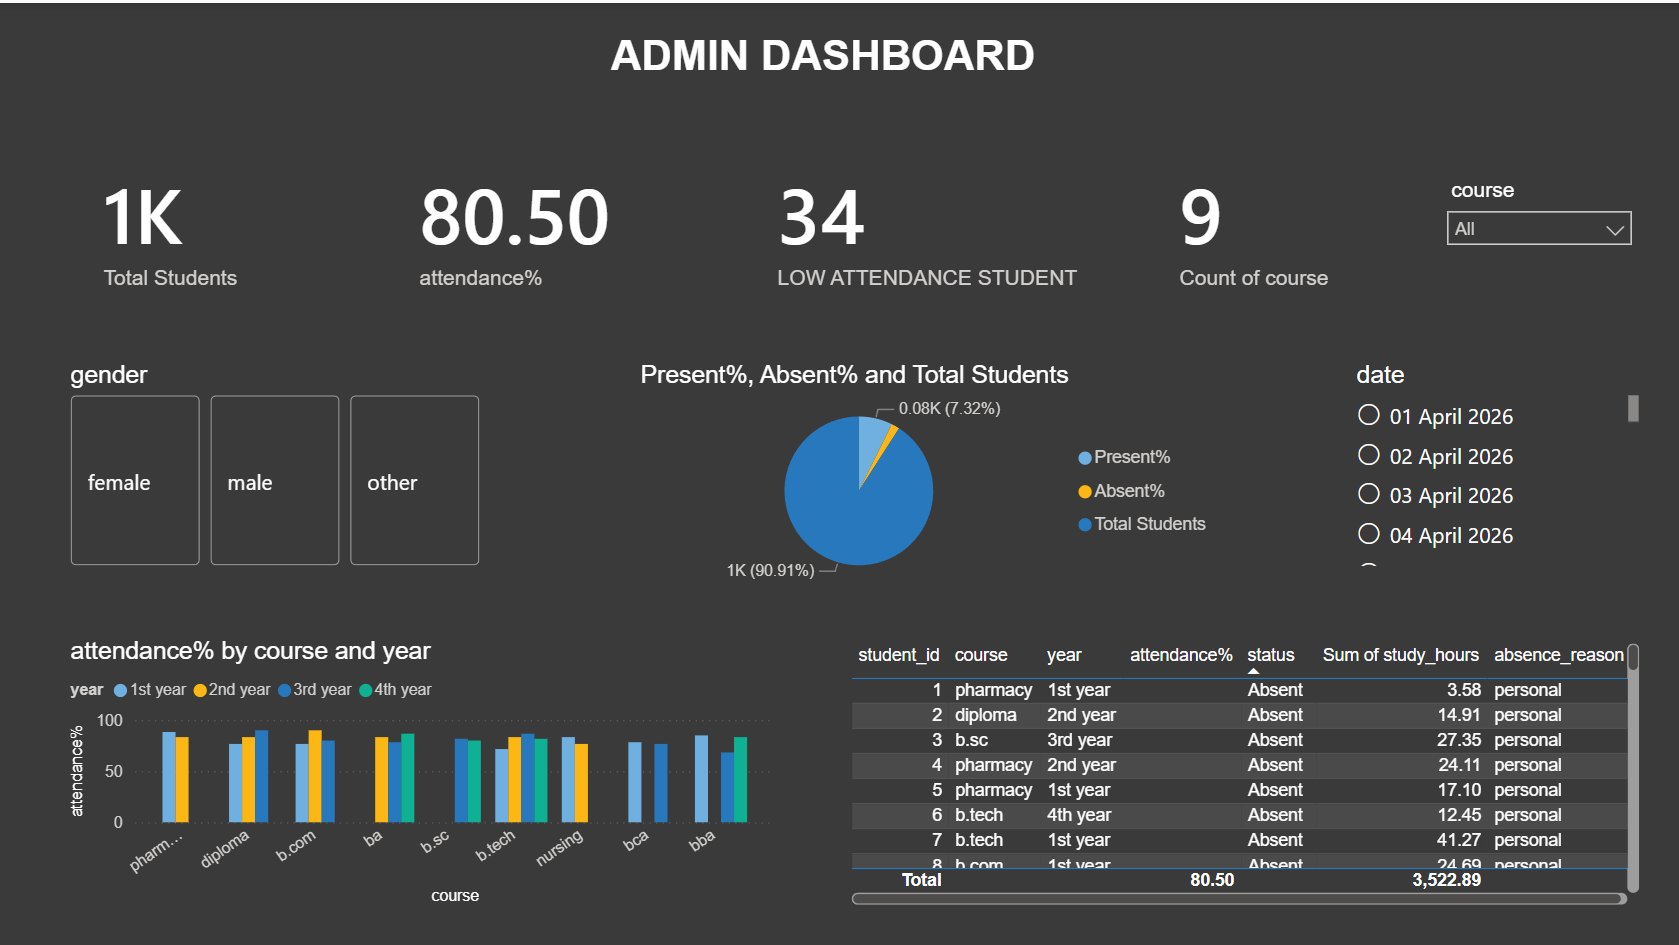

Layout of this report page (visuals, bound fields, positions):
{"tool":"powerbi","page":{"name":"Admin Dashboard","canvas":[1280,720],"ordinal":2},"visuals":[{"type":"cardVisual","fields":{"Data":["Attendance.Total Students"]},"box":[48,96,192,144],"z":0},{"type":"cardVisual","fields":{"Data":["Attendance.attendance%"]},"box":[288,96,208,144],"z":1000},{"type":"cardVisual","fields":{"Data":["Attendance.LOW ATTENDANCE STUDENT"]},"box":[560,96,288,144],"z":2000},{"type":"cardVisual","fields":{"Data":["Count(Students.course)"]},"box":[864,96,208,144],"z":3000},{"type":"advancedSlicerVisual","fields":{"Values":["Students.gender"]},"box":[48,272,320,160],"z":4000},{"type":"lineClusteredColumnComboChart","fields":{"Category":["Students.course"],"Y":["Attendance.attendance%"],"Series":["Students.year"]},"box":[48,480,544,208],"z":5000},{"type":"listSlicer","fields":{"Values":["Attendance.date"]},"box":[1024,272,224,160],"z":6000},{"type":"textbox","box":[432,16,384,64],"z":7000},{"type":"pieChart","fields":{"Y":["Attendance.Present%","Attendance.Absent%","Attendance.Total Students"]},"box":[480,272,448,176],"z":8000},{"type":"tableEx","fields":{"Values":["Attendance.student_id","Students.course","Students.year","Attendance.attendance%","Attendance.status","Sum(Attendance.study_hours)","Attendance.absence_reason"]},"box":[640,480,608,208],"z":9000},{"type":"slicer","fields":{"Values":["Students.course"]},"box":[1088,128,160,80],"z":10000}]}

Visuals, with their boxes in screenshot pixels (x1, y1, x2, y2), scaled from the page's 1280x720 canvas onto the 1679x945 screenshot:
cardVisual - Attendance.Total Students: 63,126,315,315
cardVisual - Attendance.attendance%: 378,126,651,315
cardVisual - Attendance.LOW ATTENDANCE STUDENT: 735,126,1112,315
cardVisual - Count(Students.course): 1133,126,1406,315
advancedSlicerVisual - Students.gender: 63,357,483,567
lineClusteredColumnComboChart - Students.course x Attendance.attendance%: 63,630,777,903
listSlicer - Attendance.date: 1343,357,1637,567
textbox: 567,21,1070,105
pieChart - Attendance.Present% x Attendance.Absent%: 630,357,1217,588
tableEx - Attendance.student_id x Students.course: 840,630,1637,903
slicer - Students.course: 1427,168,1637,273
